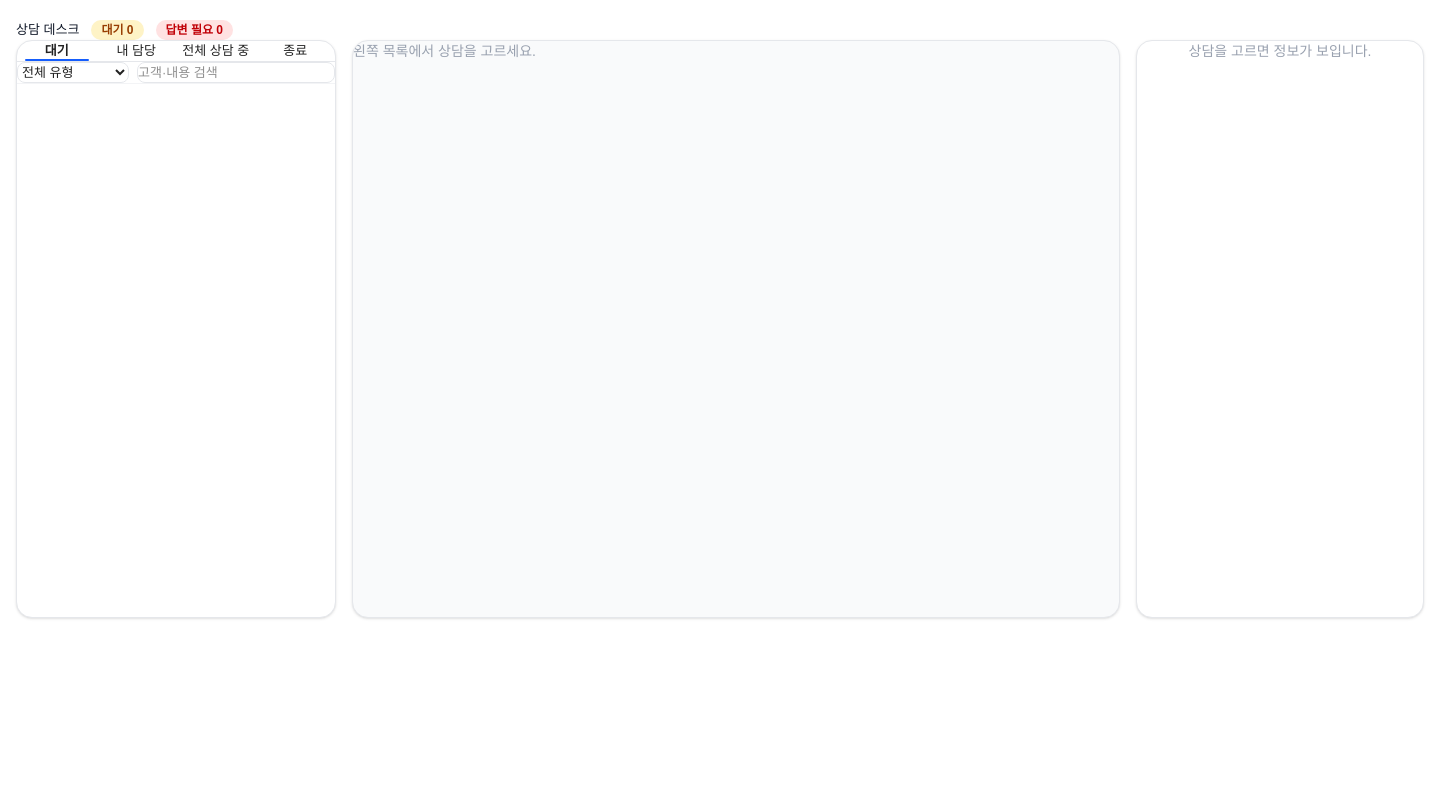
Scenario: Desk — 상담 데스크 › 🔒 내부 메모 — '고객에게 보이지 않습니다' 를 알리고, 저장하면 서버에 보낸다
Click the tab "내 담당" at (136, 51), box [96,41,176,60]
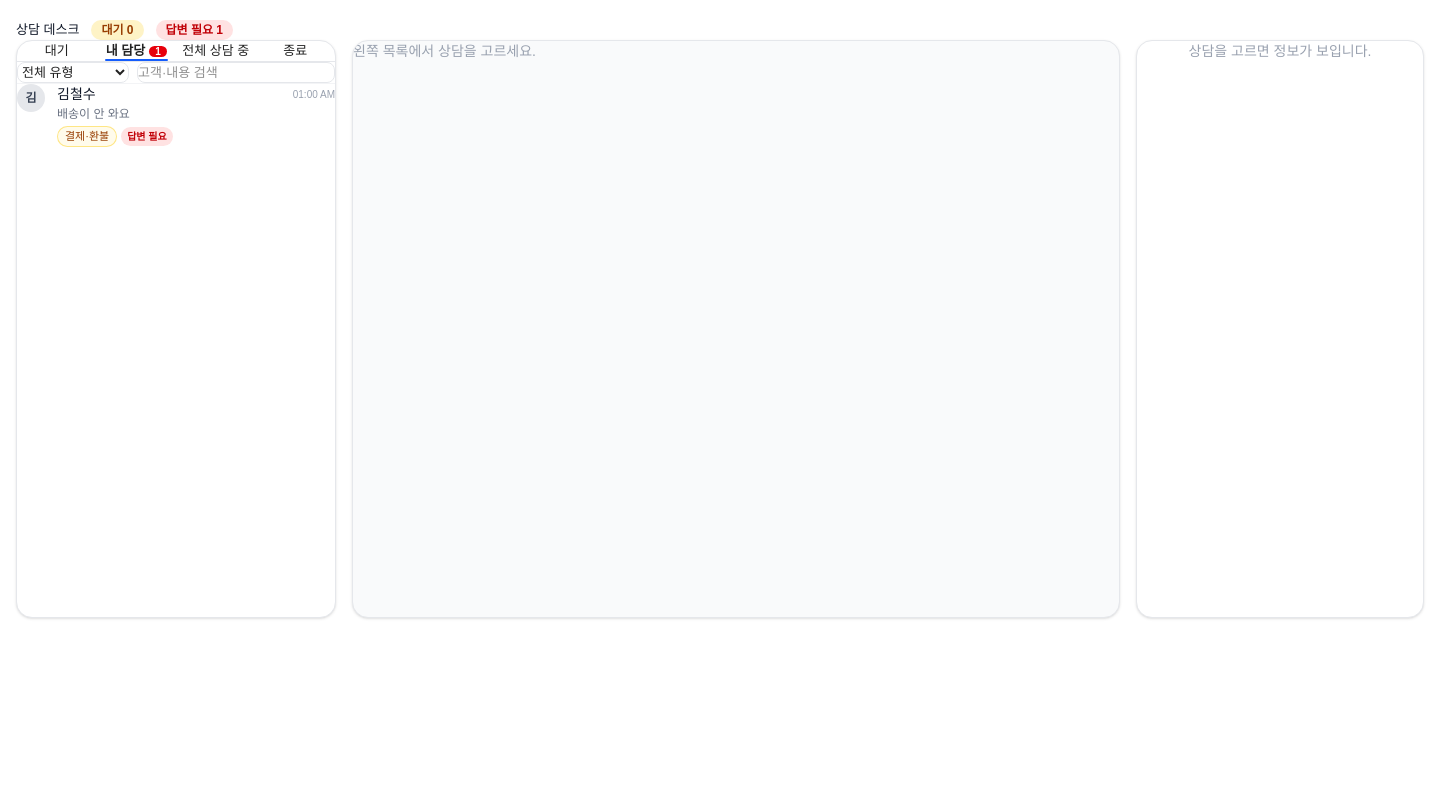
Click the button "김 김철수 01:00 AM 배송이 안 와요 결제·환불 답변 필요" at (76, 94), box [17,84,335,146]
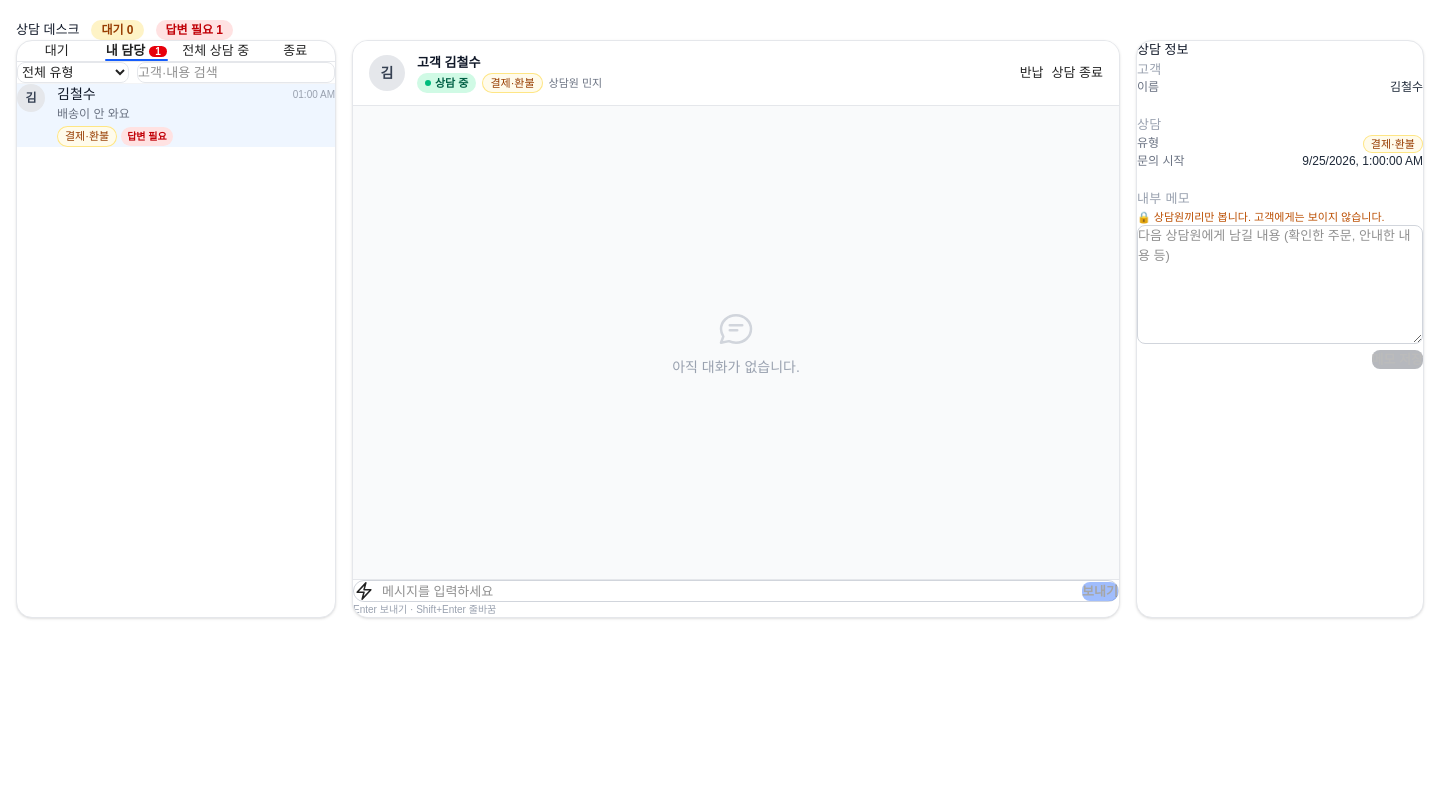
Expected: the text "🔒 상담원끼리만 봅니다. 고객에게는 보이지 않습니다." is shown, [1137,209,1423,225]
Type "환불 규정 안내함" into the text box named "내부 메모" at (1280, 285), box [1137,225,1423,344]
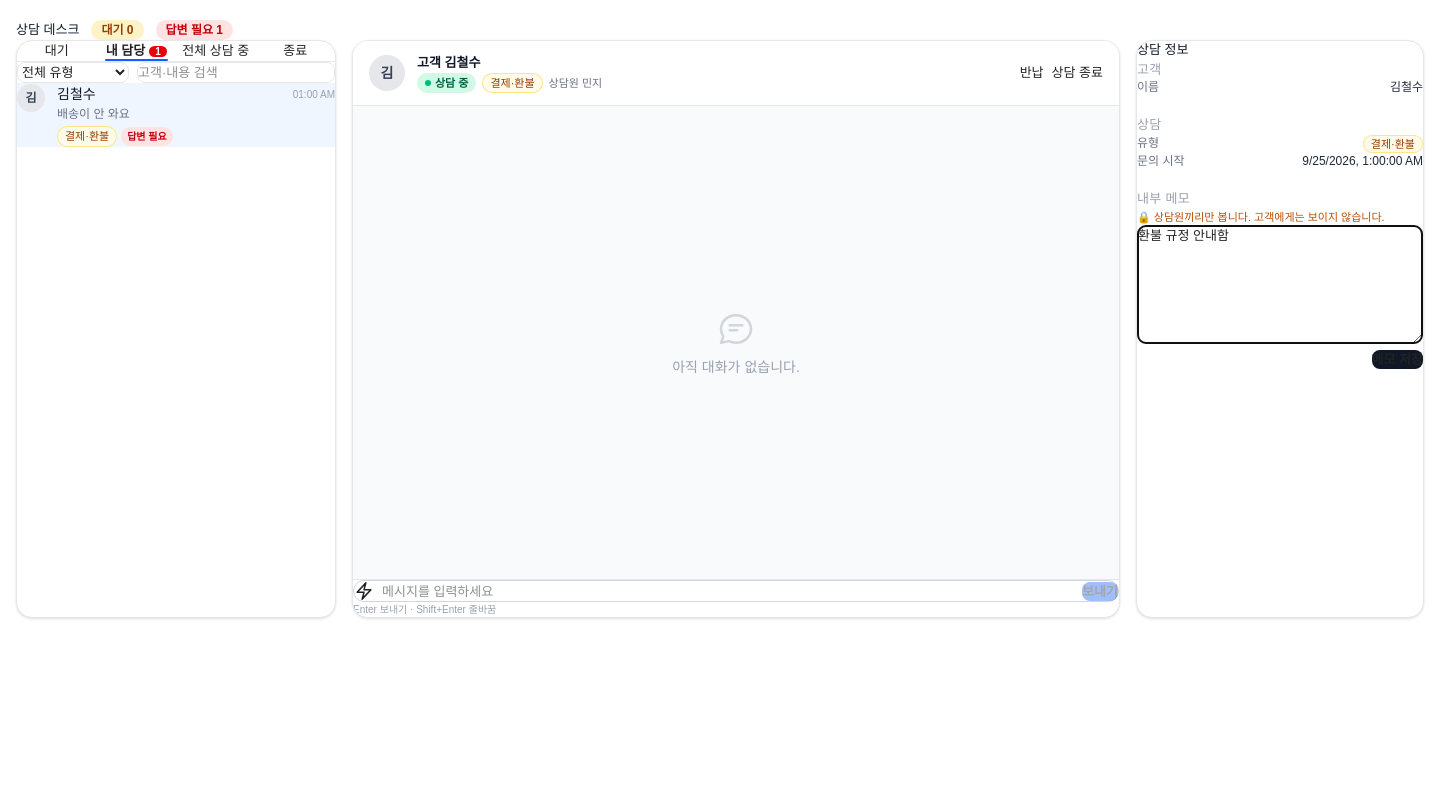
Click the button "메모 저장" at (1397, 359), box [1372,350,1423,369]
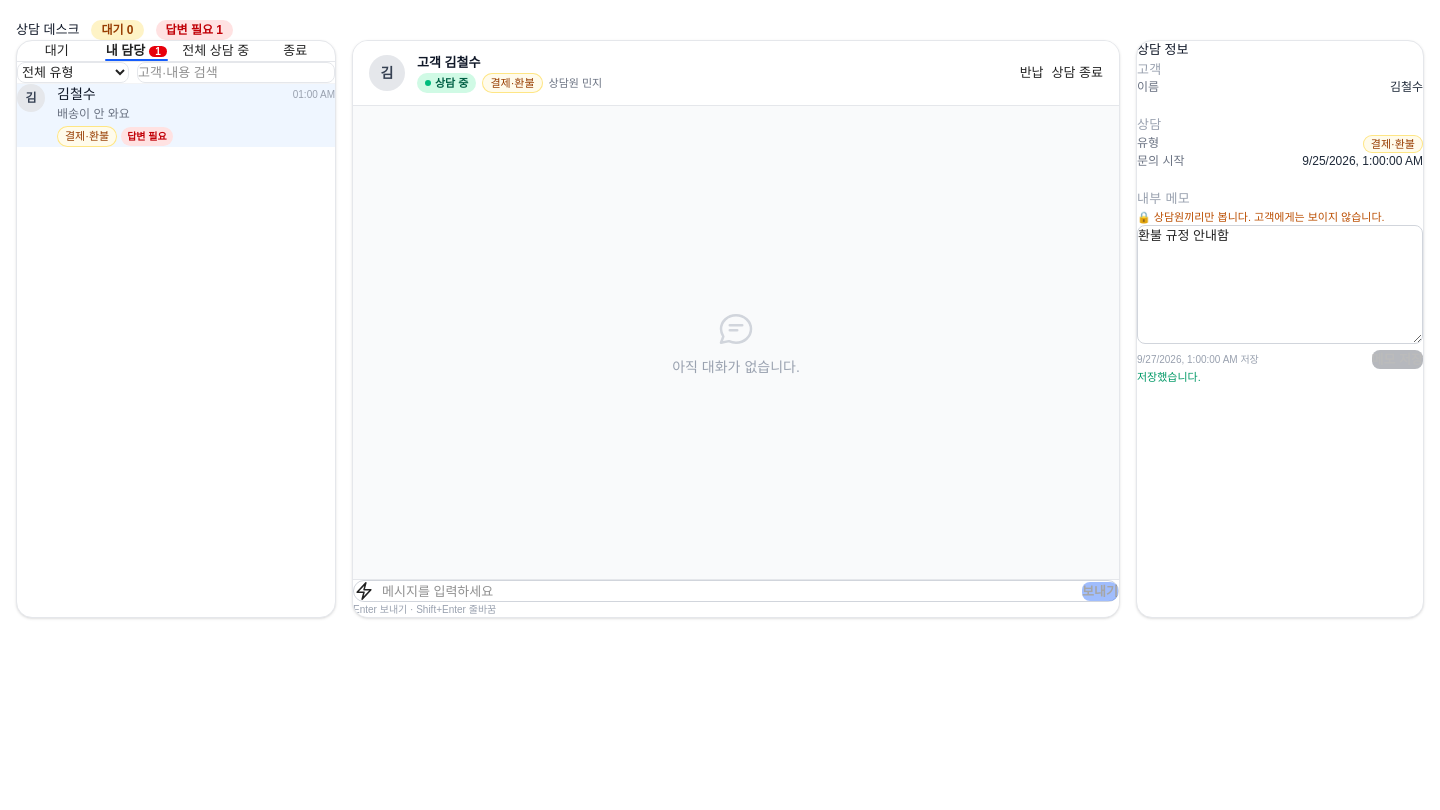
Expected: the text "저장했습니다." is shown, [1137,371,1201,383]
